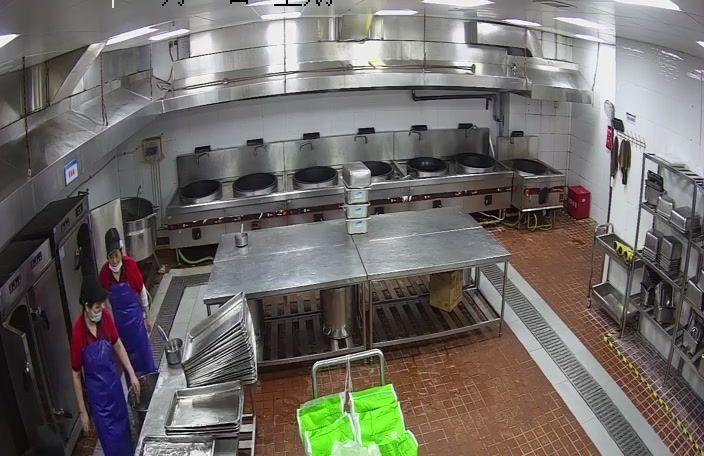mask: (108, 260, 122, 272)
